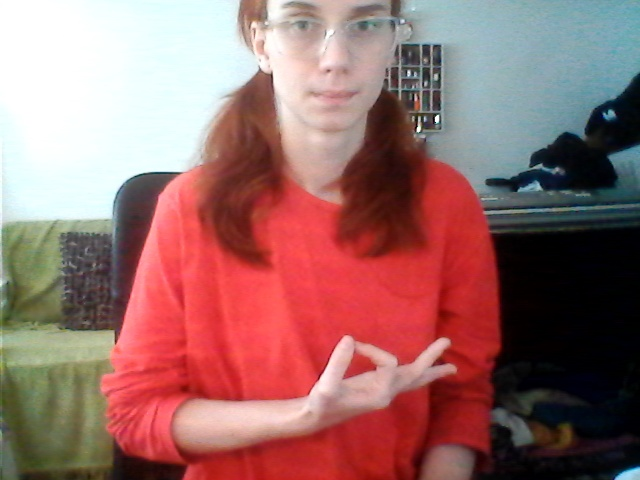co: (298, 320, 464, 421)
